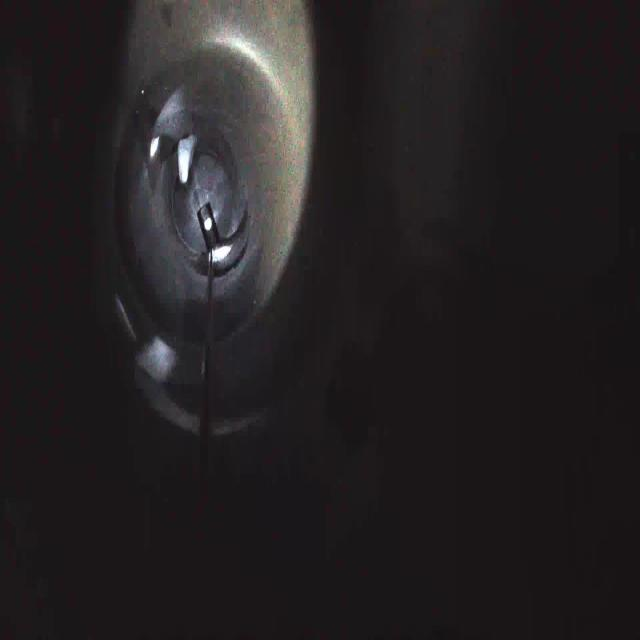impurity: (173, 125, 200, 185)
